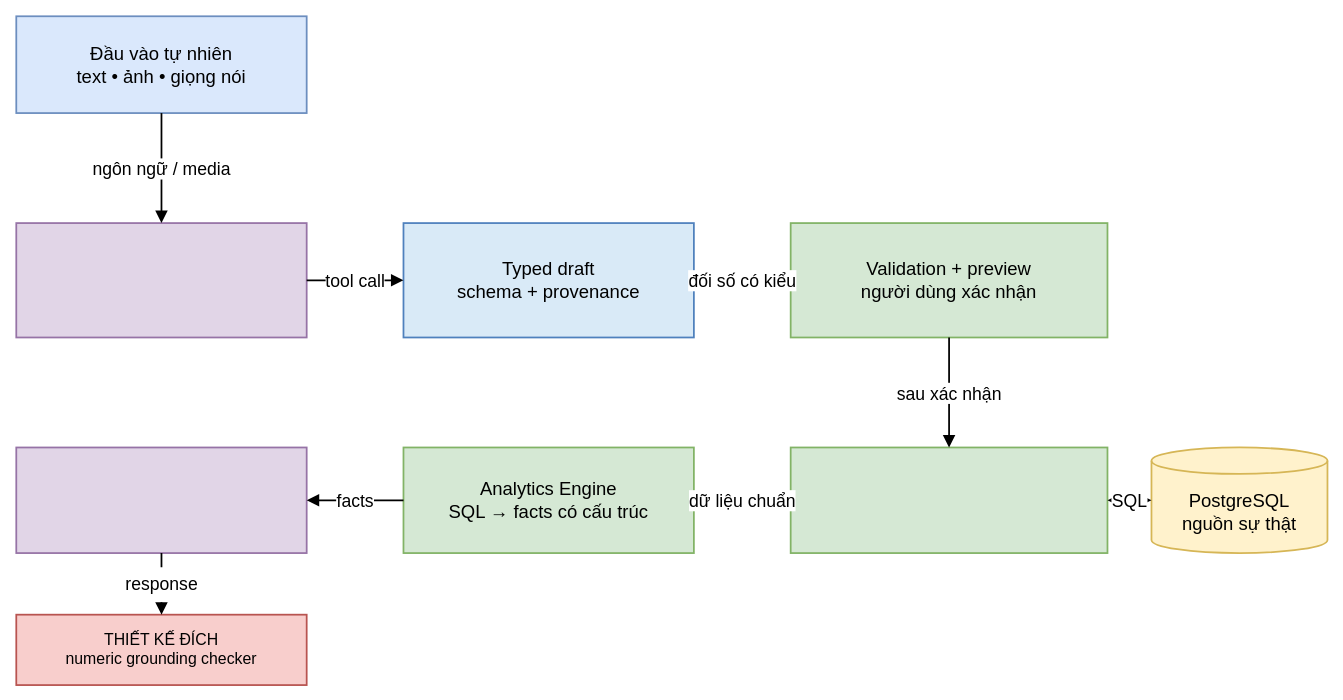
Image size: 1343x700. Some labels were removed from this diagram. Here are the shapes that lost their labels. From the top down, the centre of each, then its label:
At (x=161, y=280): "LLM / parser hiểu ý định • điền tham số".
At (x=161, y=500): "Narrator LLM/template chỉ diễn đạt facts".
At (x=948, y=500): "Core service transaction • query".
